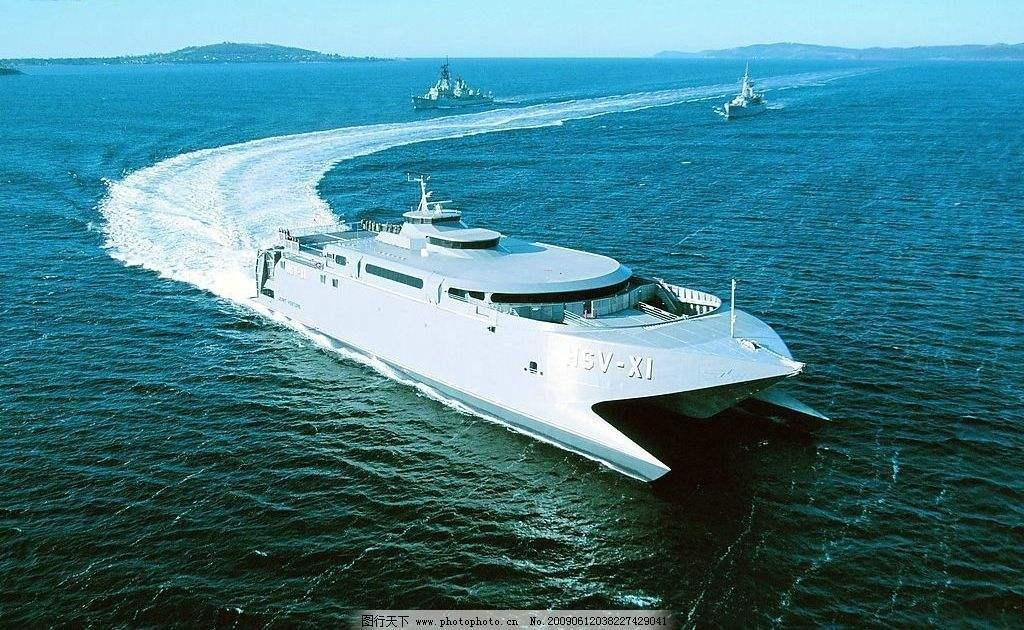warship: (250, 176, 835, 482), (405, 62, 493, 110), (715, 63, 773, 123)
